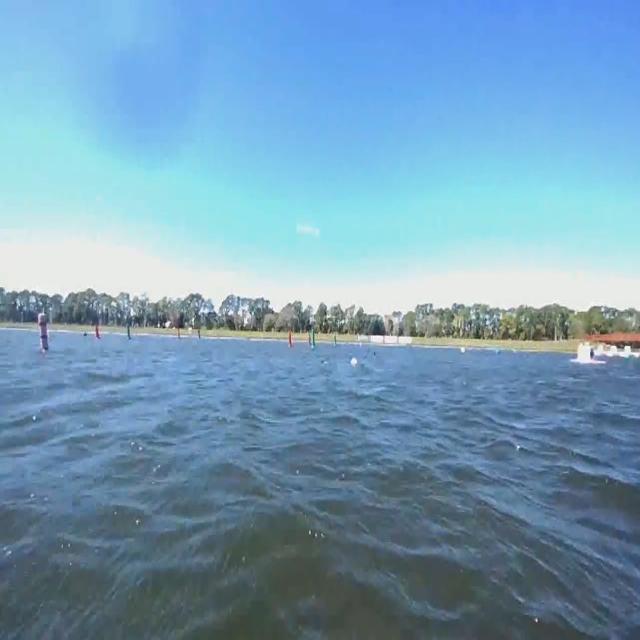green-column-buoy: (126, 320, 134, 340), (308, 330, 315, 350), (198, 327, 204, 343)
red-column-buoy: (94, 321, 102, 340), (287, 328, 294, 347), (177, 324, 182, 340)
yellow-buoy: (352, 356, 358, 366)
